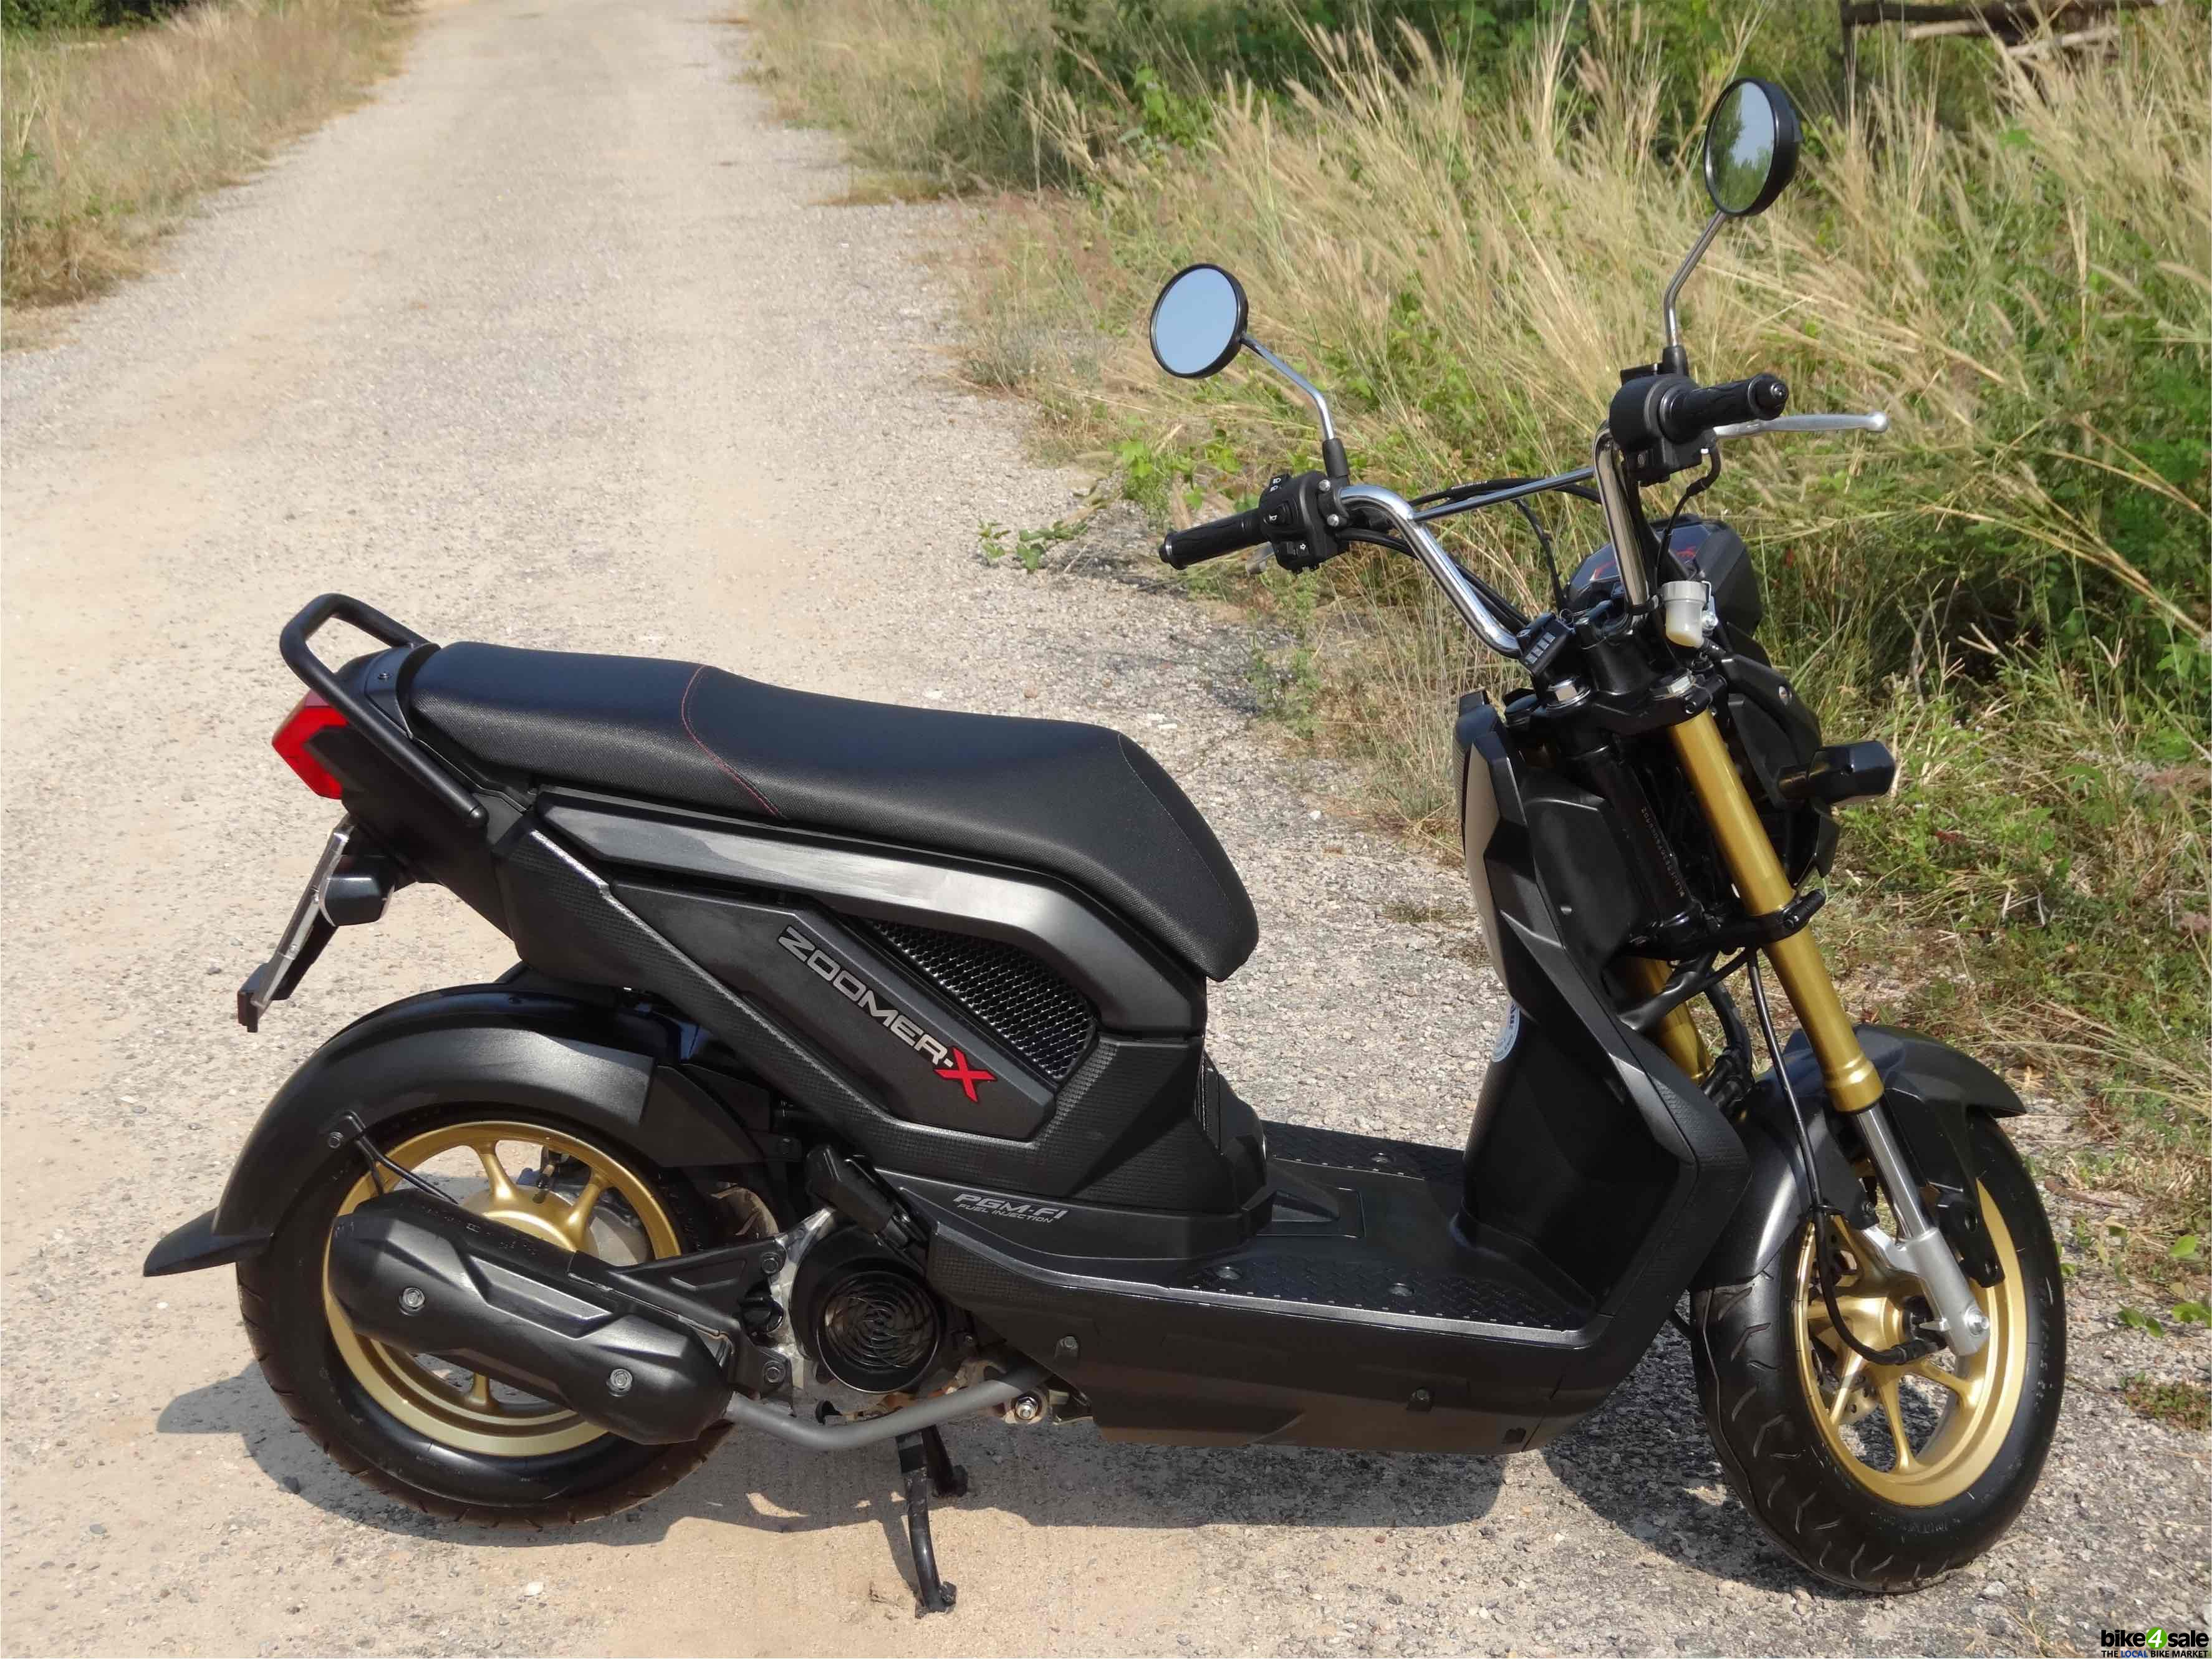motorcycle: (145, 94, 2081, 1577)
